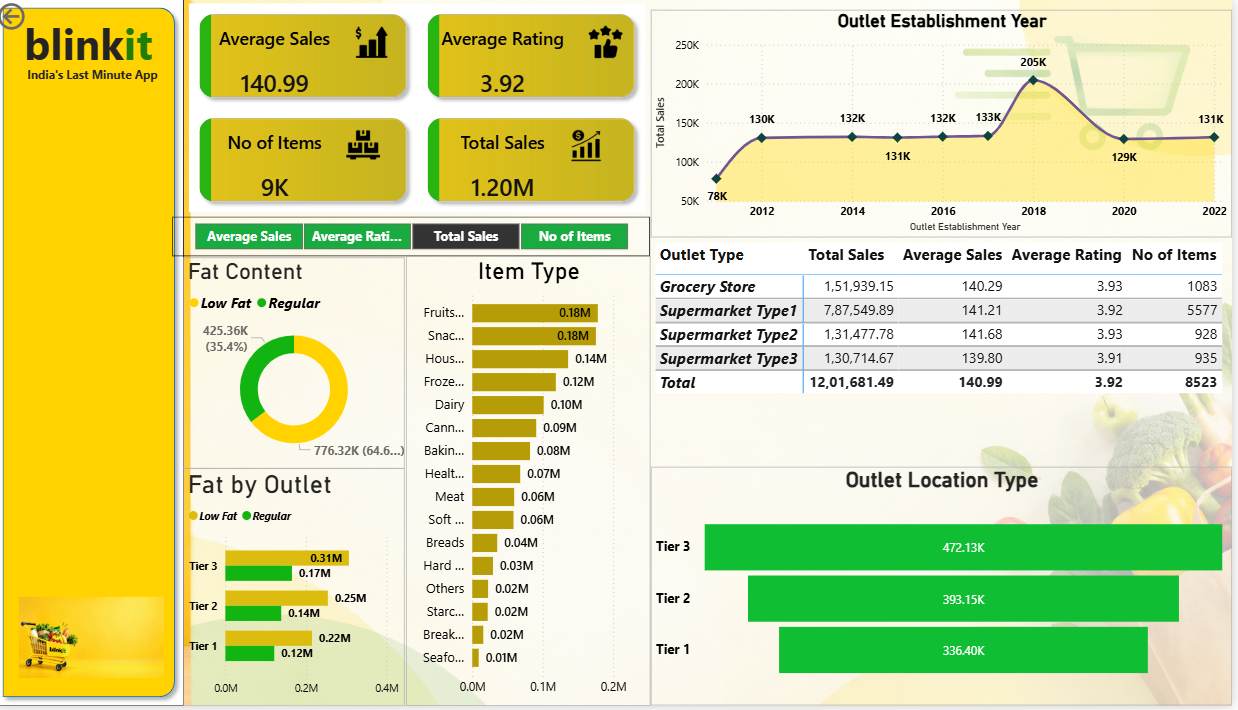

Layout of this report page (visuals, bound fields, positions):
{"tool":"powerbi","page":{"name":"dashboard project","canvas":[1400,800],"ordinal":0},"visuals":[{"type":"shape","box":[10.4,0,204.1,800.7],"z":0},{"type":"textbox","box":[29.4,12.1,172.9,76.1],"z":1000},{"type":"textbox","box":[24.5,71.4,173.5,32.7],"z":2000},{"type":"actionButton","box":[0,0,100,40],"z":3000},{"type":"cardVisual","fields":{"Data":["BlinkIT Grocery Data.Average Sales","BlinkIT Grocery Data.Average Rating","BlinkIT Grocery Data.No of Items","BlinkIT Grocery Data.Total Sales"]},"box":[214.3,0,551,246.9],"z":4000},{"type":"slicer","fields":{"Values":["Metrics.Metrics"]},"box":[214.1,246.9,551.6,45.3],"z":5000},{"type":"donutChart","title":"Fat Content","fields":{"Y":["BlinkIT Grocery Data.Total Sales"],"Category":["BlinkIT Grocery Data.Item Fat Content"]},"box":[214.3,291.8,251,238.8],"z":6000},{"type":"clusteredBarChart","title":" Fat by Outlet","fields":{"Y":["BlinkIT Grocery Data.Total Sales"],"Category":["BlinkIT Grocery Data.Outlet Location Type"],"Series":["BlinkIT Grocery Data.Item Fat Content"]},"box":[214.3,530.6,251,269.4],"z":7000},{"type":"barChart","title":"Item Type","fields":{"Y":["BlinkIT Grocery Data.Total Sales"],"Category":["BlinkIT Grocery Data.Item Type"]},"box":[465.3,291.8,300,508.2],"z":8000},{"type":"lineChart","title":"Outlet Establishment Year","fields":{"Category":["BlinkIT Grocery Data.Outlet Establishment Year"],"Y":["BlinkIT Grocery Data.Total Sales"]},"box":[766.1,12.5,633.9,351.8],"z":9000},{"type":"pivotTable","fields":{"Rows":["BlinkIT Grocery Data.Outlet Type"],"Values":["BlinkIT Grocery Data.Total Sales","BlinkIT Grocery Data.Average Sales","BlinkIT Grocery Data.Average Rating","BlinkIT Grocery Data.No of Items"]},"box":[766.1,400,633.9,400],"z":9001}]}

Visuals, with their boxes in screenshot pixels (x1, y1, x2, y2), scaled from the page's 1400x800 canvas onto the 1238x710 screenshot:
shape: box(9, 0, 190, 709)
textbox: box(26, 11, 179, 78)
textbox: box(22, 63, 175, 92)
actionButton: box(0, 0, 88, 36)
cardVisual - BlinkIT Grocery Data.Average Sales x BlinkIT Grocery Data.Average Rating: box(190, 0, 677, 219)
slicer - Metrics.Metrics: box(189, 219, 677, 259)
"Fat Content" donutChart: box(190, 259, 411, 471)
" Fat by Outlet" clusteredBarChart: box(190, 471, 411, 709)
"Item Type" barChart: box(411, 259, 677, 709)
"Outlet Establishment Year" lineChart: box(677, 11, 1237, 323)
pivotTable - BlinkIT Grocery Data.Outlet Type x BlinkIT Grocery Data.Total Sales: box(677, 355, 1237, 709)
